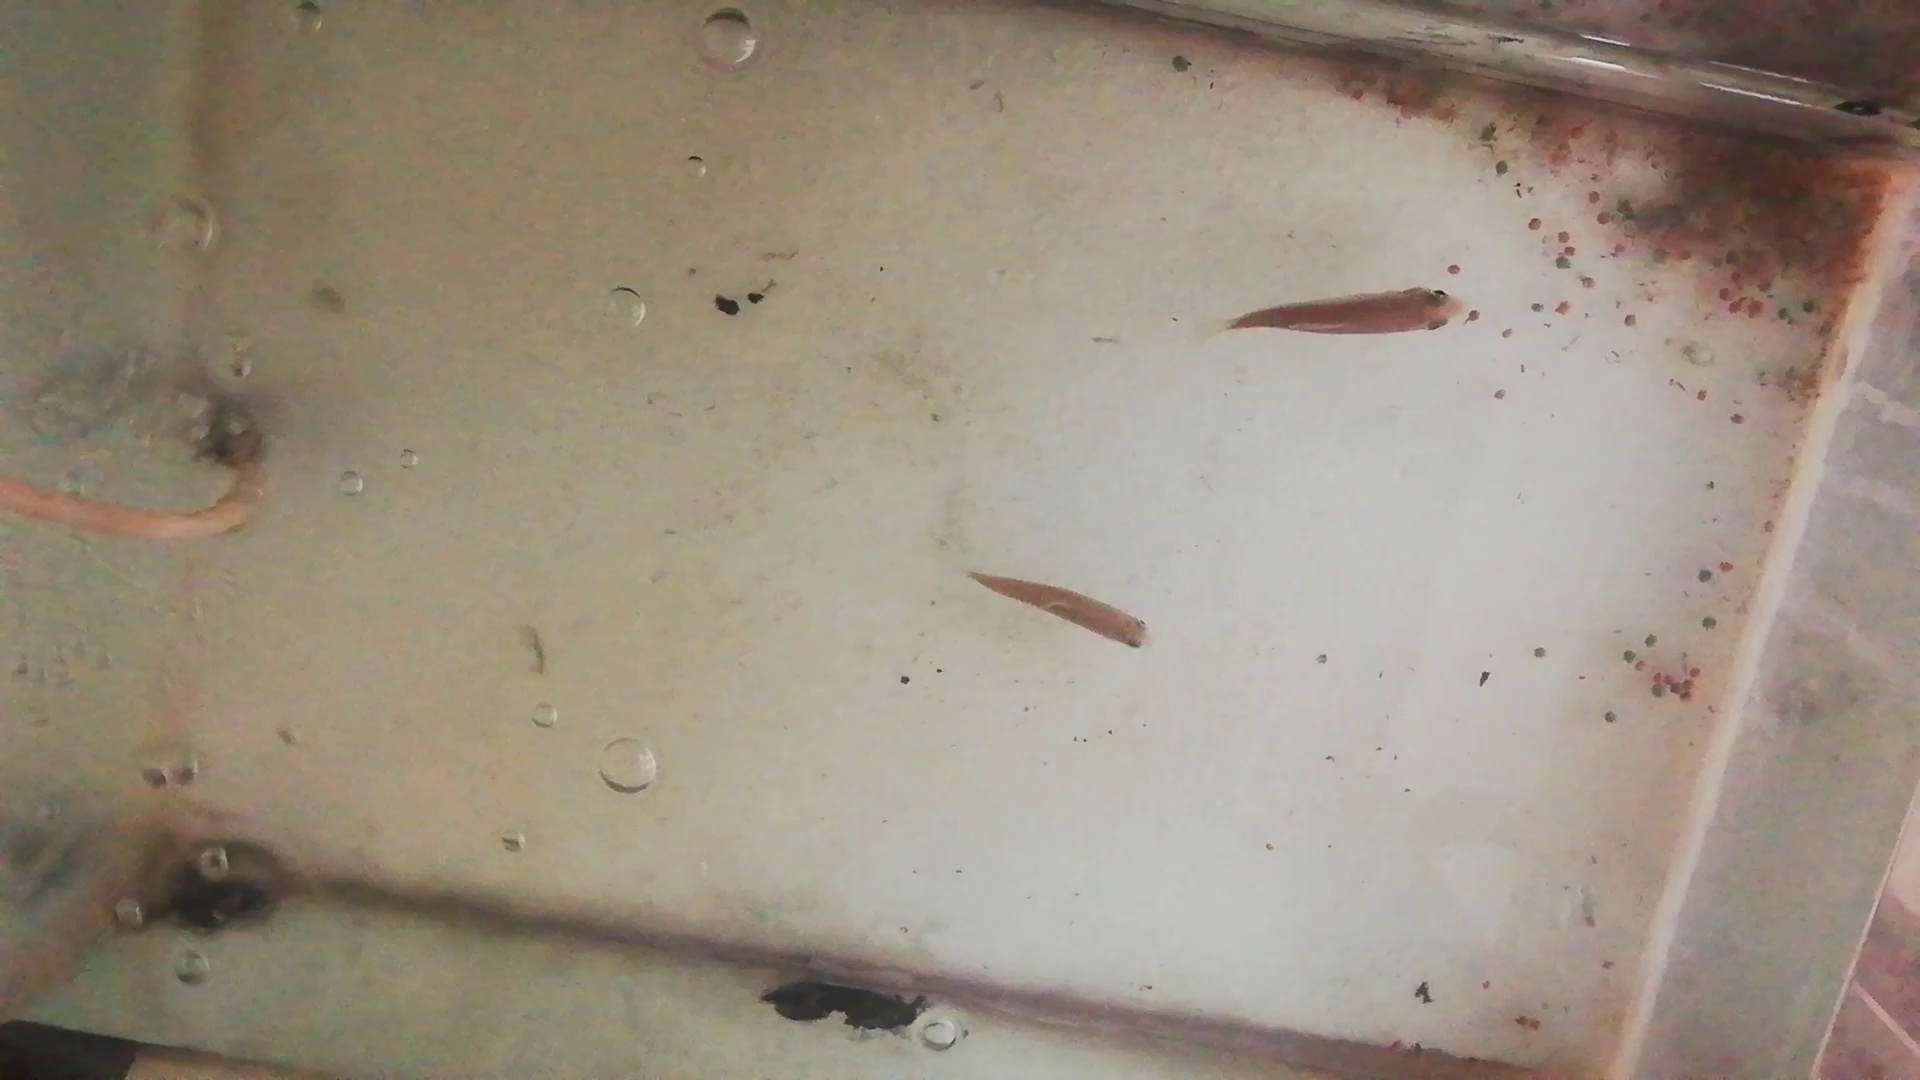fish: (971, 564, 1160, 655), (1226, 287, 1487, 342)
